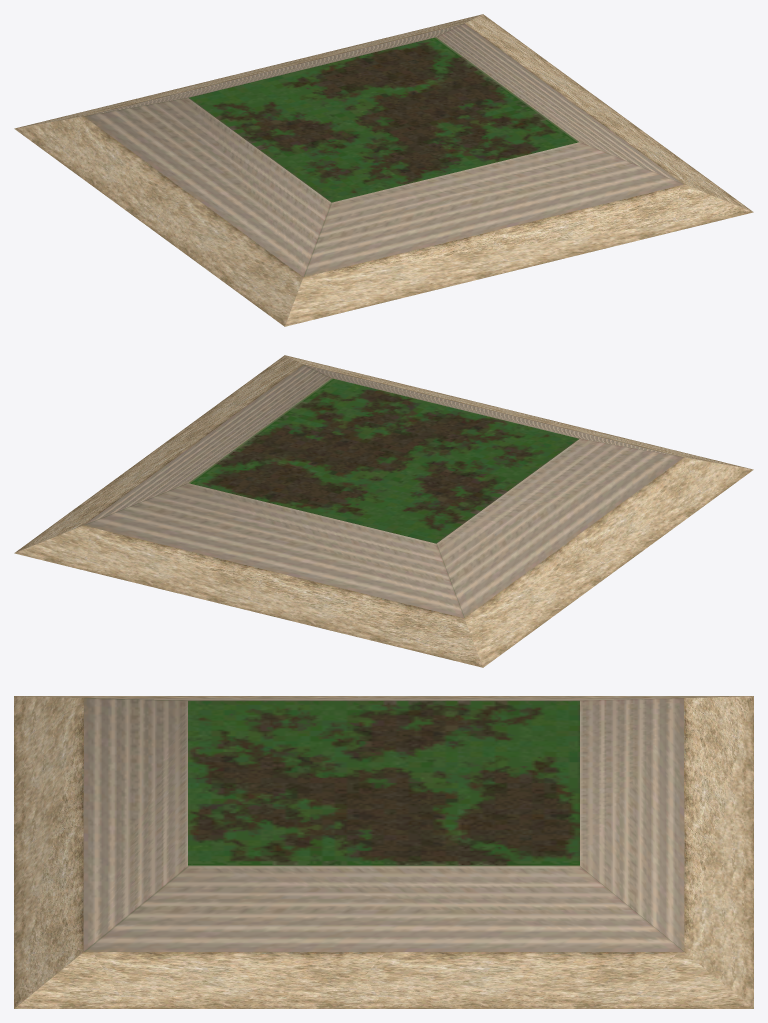
Rendered from ply_nboo_garden_lrg_s01_l2.fbx.
3 renders of one model, top to bottom at view 1: azimuth 30°, elevation 25°; view 2: azimuth 150°, elevation 25°; view 3: azimuth 270°, elevation 25°, orthographic. The views are drawn at different scales.
Parts seen in each view (by area): view 1: mesh_node; view 2: mesh_node; view 3: mesh_node.
Boxes of the visible parts, x1,y1,x2,y2 form: mesh_node: (14,14,753,326); mesh_node: (14,355,753,667); mesh_node: (14,696,753,1008).
Bounding box in the file's own units: 49.09 × 5.05 × 49.07.
